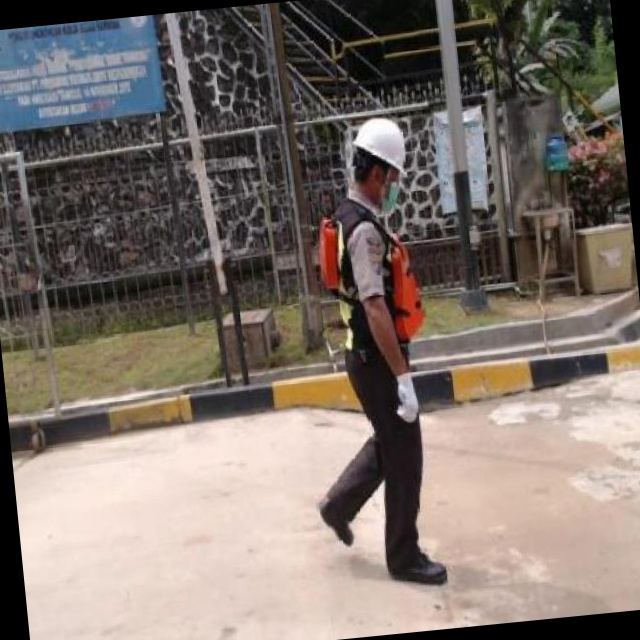boots: (358, 552, 424, 596), (298, 492, 334, 556)
gloves: (380, 375, 430, 447)
helmet: (369, 120, 426, 186)
vest: (324, 210, 432, 368)
